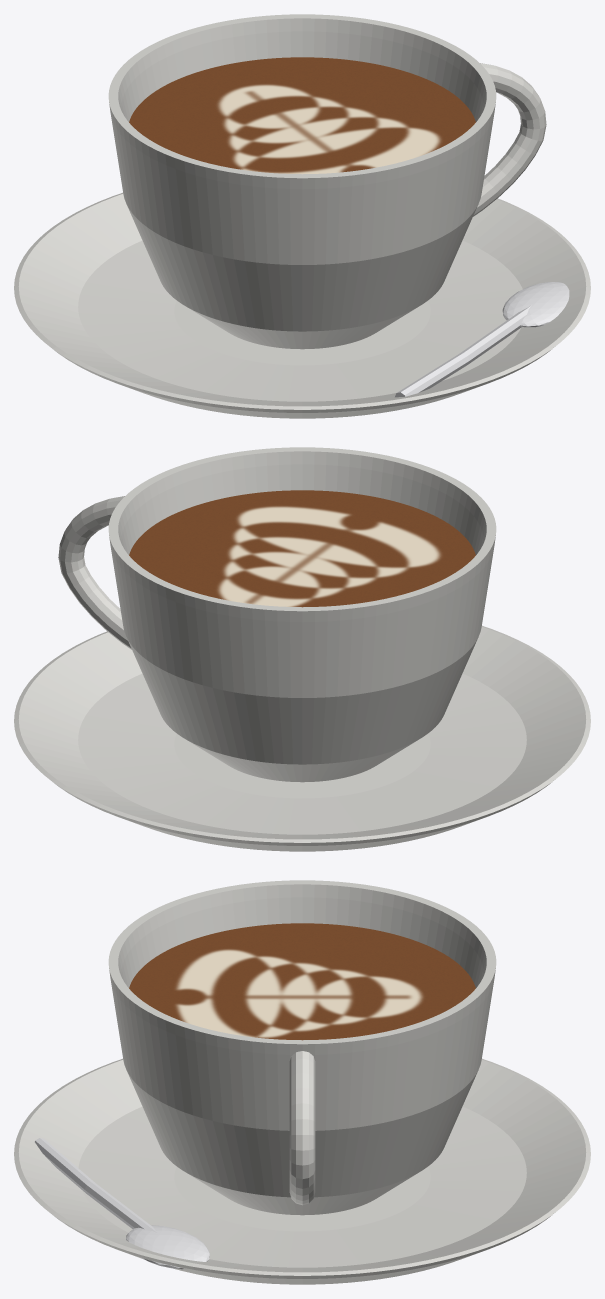
The model's file is spanish_latte.glb.
The picture shows the model from 3 angles, top to bottom: view 1: azimuth 30°, elevation 25°; view 2: azimuth 150°, elevation 25°; view 3: azimuth 270°, elevation 25°; orthographic projection.
Visible parts, largest first — view 1: spanish_latte__cup_2, spanish_latte__saucer_1, spanish_latte__coffee_4, spanish_latte__handle_3, spanish_latte__spoon_5; view 2: spanish_latte__cup_2, spanish_latte__saucer_1, spanish_latte__coffee_4, spanish_latte__handle_3; view 3: spanish_latte__cup_2, spanish_latte__saucer_1, spanish_latte__coffee_4, spanish_latte__spoon_5, spanish_latte__handle_3.
Part boxes in pixels (box(x1,y1,x2,y2)): spanish_latte__cup_2: box(108, 14, 496, 349); spanish_latte__saucer_1: box(14, 192, 590, 418); spanish_latte__coffee_4: box(129, 57, 475, 174); spanish_latte__handle_3: box(473, 63, 546, 216); spanish_latte__spoon_5: box(395, 282, 569, 397); spanish_latte__cup_2: box(108, 447, 496, 782); spanish_latte__saucer_1: box(14, 625, 590, 851); spanish_latte__coffee_4: box(129, 490, 475, 607); spanish_latte__handle_3: box(58, 496, 131, 649); spanish_latte__cup_2: box(108, 880, 496, 1215); spanish_latte__saucer_1: box(14, 1058, 590, 1284); spanish_latte__coffee_4: box(129, 923, 475, 1040); spanish_latte__spoon_5: box(35, 1138, 209, 1269); spanish_latte__handle_3: box(289, 1051, 315, 1205).
Size of the model in its own units: 0.18 by 0.082 by 0.18.
3 materials, 1 textured.
